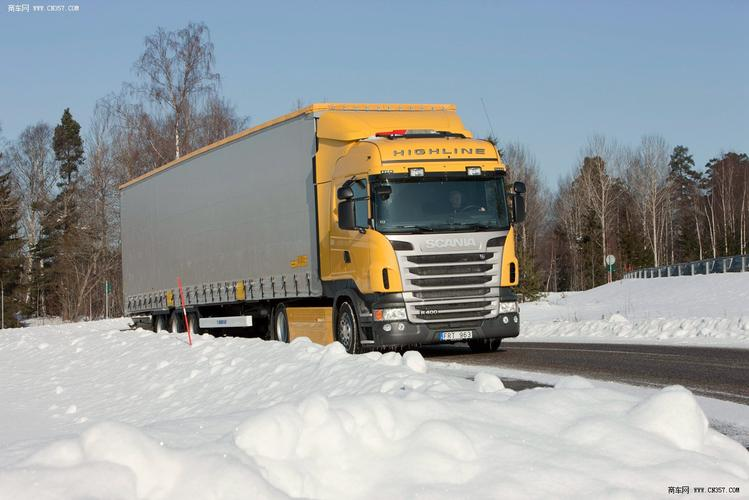卡车: (102, 101, 532, 373)
